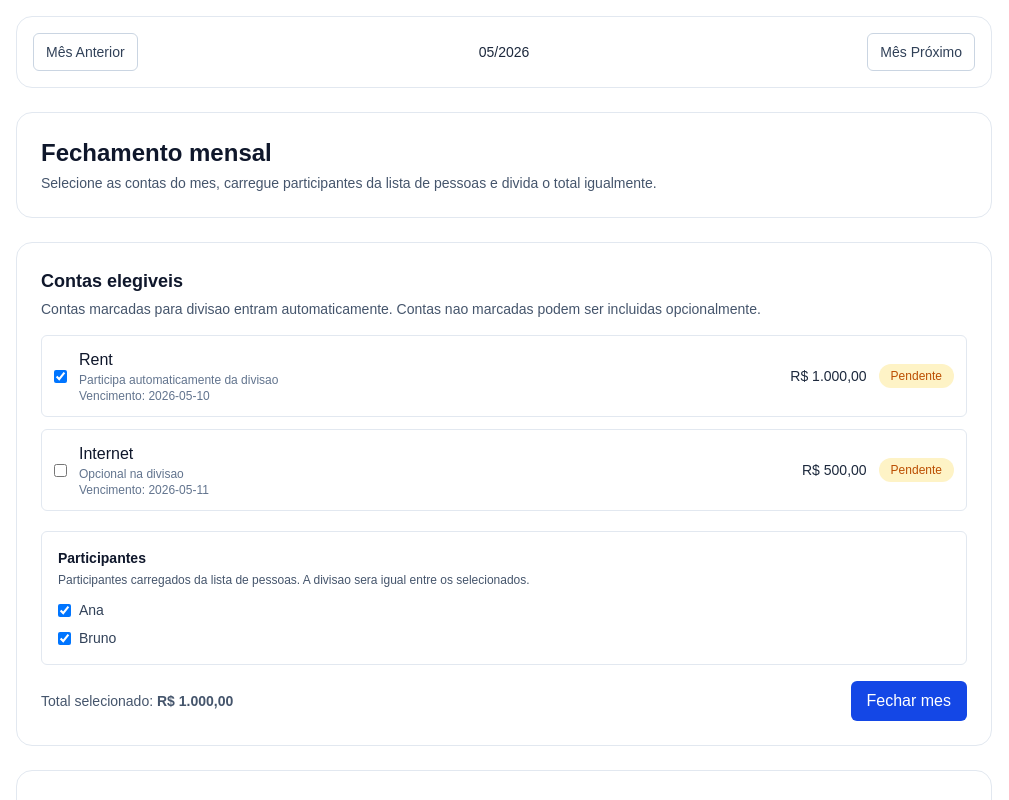
Test: MonthlyClosingView › creates monthly closing and renders result
Click the checkbox named "selecionar conta internet" at point(60, 470), box [54, 464, 67, 476]
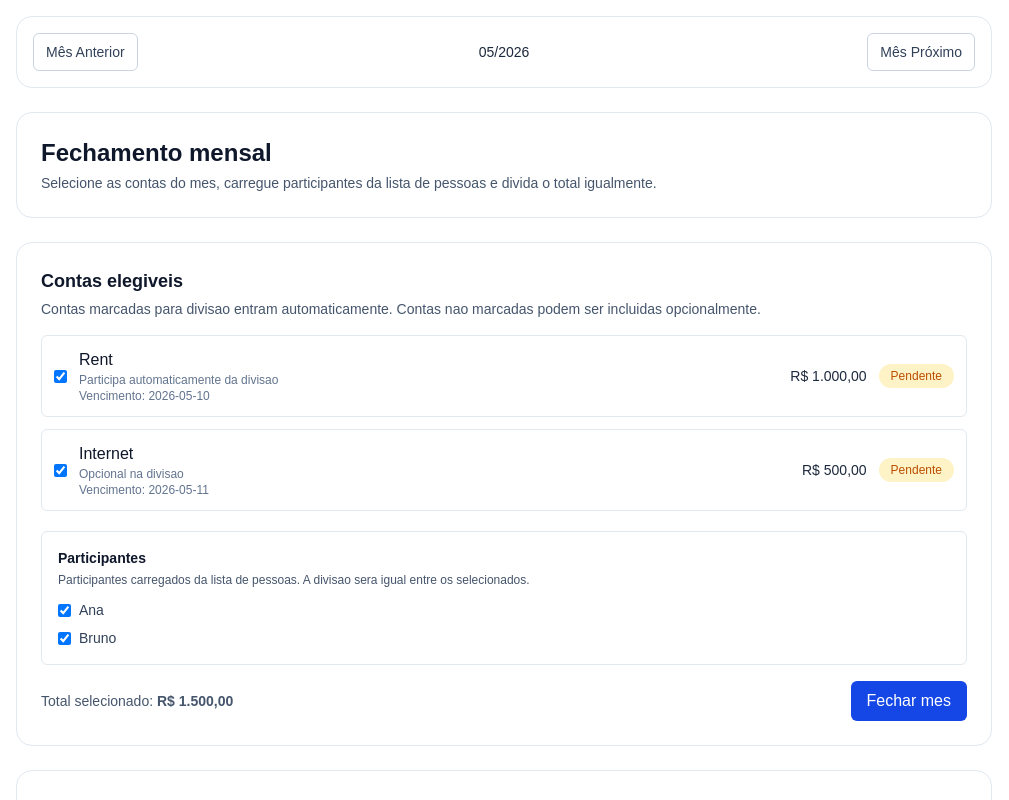
Click the button "Fechar mes" at point(909, 701), box [850, 681, 967, 721]
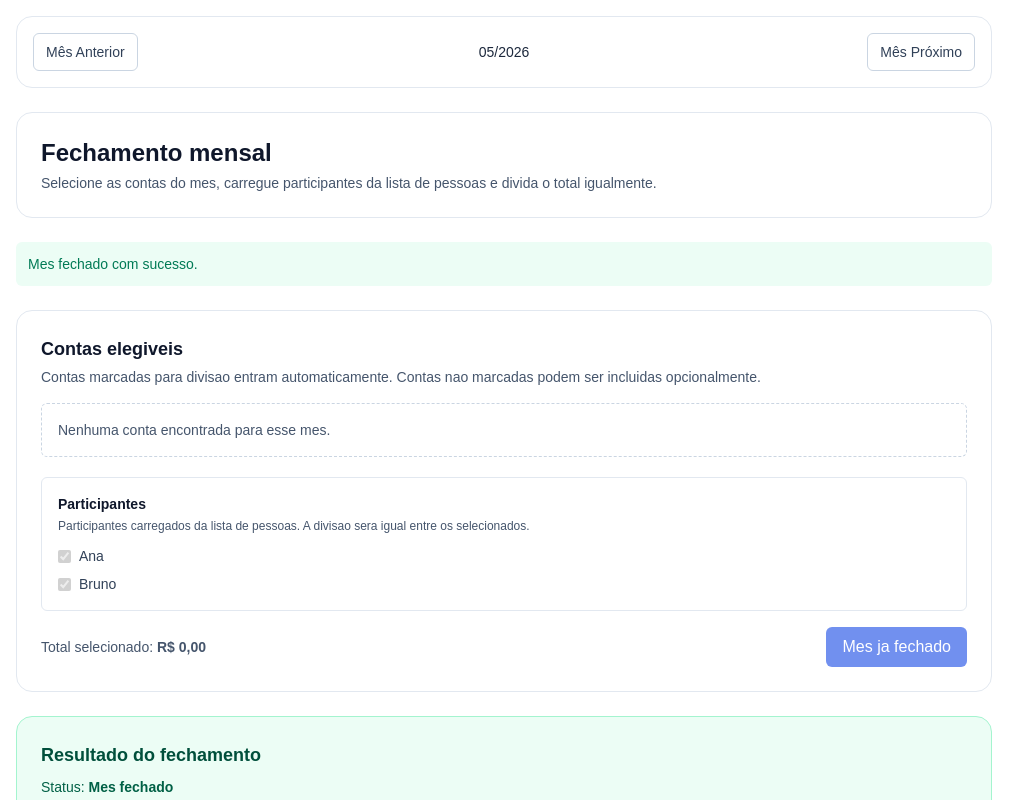
Now the heading "Resultado do fechamento" is shown, box [41, 745, 261, 765]
Now the text "Mes fechado com sucesso." is shown, box [16, 242, 992, 286]
